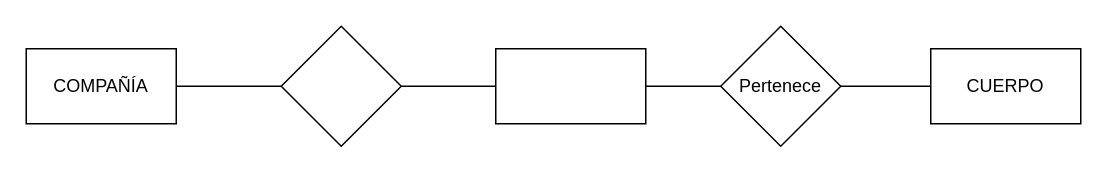
The diagram is 1107 pixels wide and 173 high, and some of its shapes have lost their labels. The shapes that lost their labels are listed below. From the top down, each one's centre as x and y in pixels, then its label:
At (x=340, y=85): "Integra".
At (x=570, y=85): "SOLDADO".
